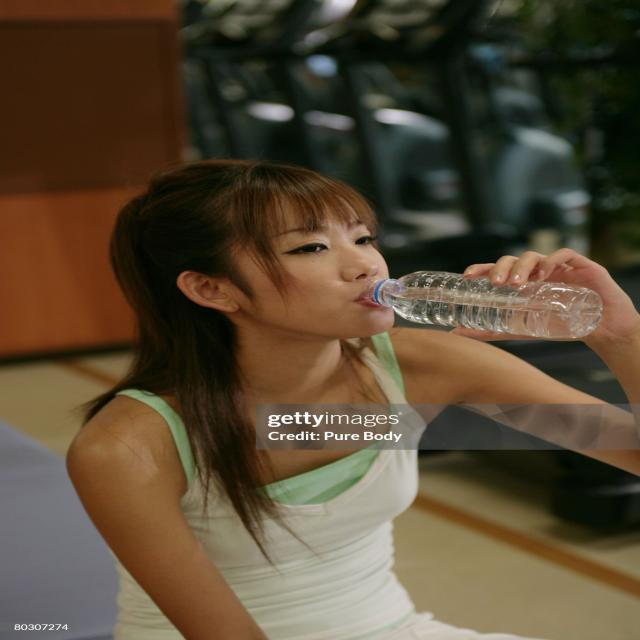bottle: (368, 268, 604, 339)
